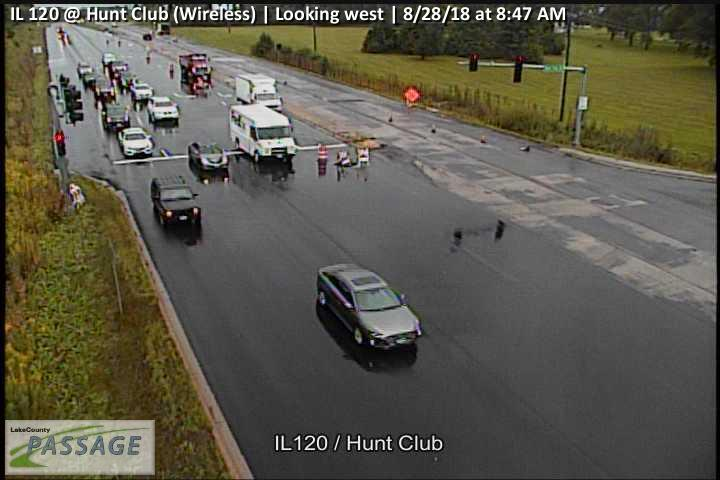SUV: (150, 175, 202, 227), (101, 102, 131, 130), (94, 81, 116, 100)
Sedan: (317, 263, 423, 353), (189, 140, 229, 170), (118, 127, 154, 157), (146, 95, 180, 124), (129, 83, 154, 101), (118, 71, 139, 88), (109, 61, 130, 77)
Truck: (229, 102, 296, 164), (234, 73, 285, 112), (179, 52, 213, 82)
